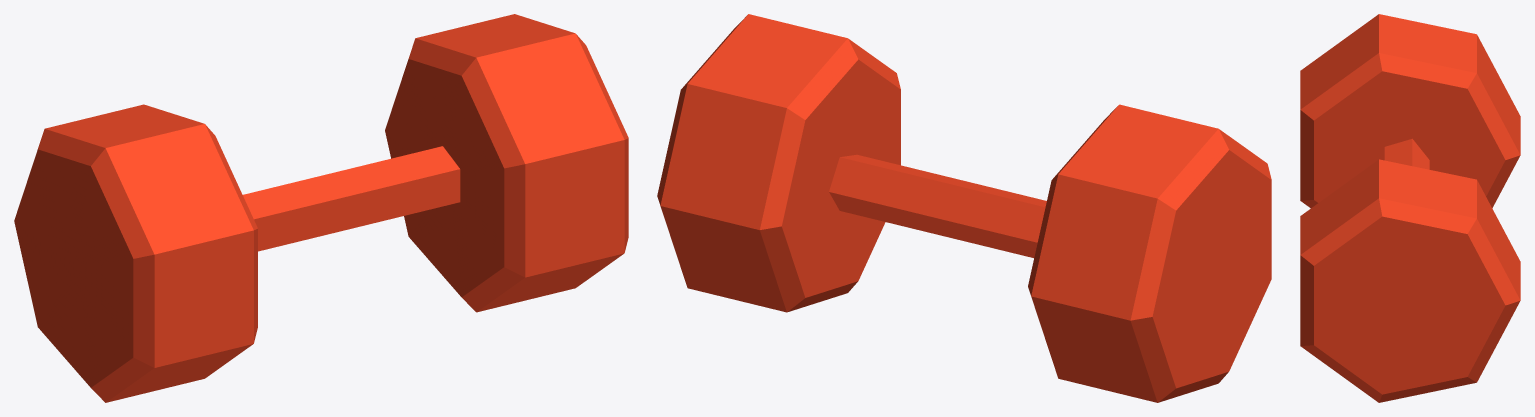
File: SM_Dumbbell_Gym_B_City.fbx
3 renders of one model, left to right at view 1: azimuth 30°, elevation 25°; view 2: azimuth 150°, elevation 25°; view 3: azimuth 270°, elevation 25°, orthographic. The views are drawn at different scales.
Parts seen in each view (by area): view 1: SM_Dumbbell_Gym_B_City; view 2: SM_Dumbbell_Gym_B_City; view 3: SM_Dumbbell_Gym_B_City.
Boxes of the visible parts, x1,y1,x2,y2 form: SM_Dumbbell_Gym_B_City: (14,14,628,402); SM_Dumbbell_Gym_B_City: (657,14,1271,402); SM_Dumbbell_Gym_B_City: (1300,14,1520,402).
Size of the model in its own units: 0.3846 by 0.1891 by 0.1843.
